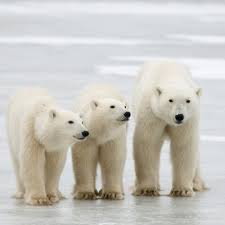PolarBear: (129, 53, 210, 203)
